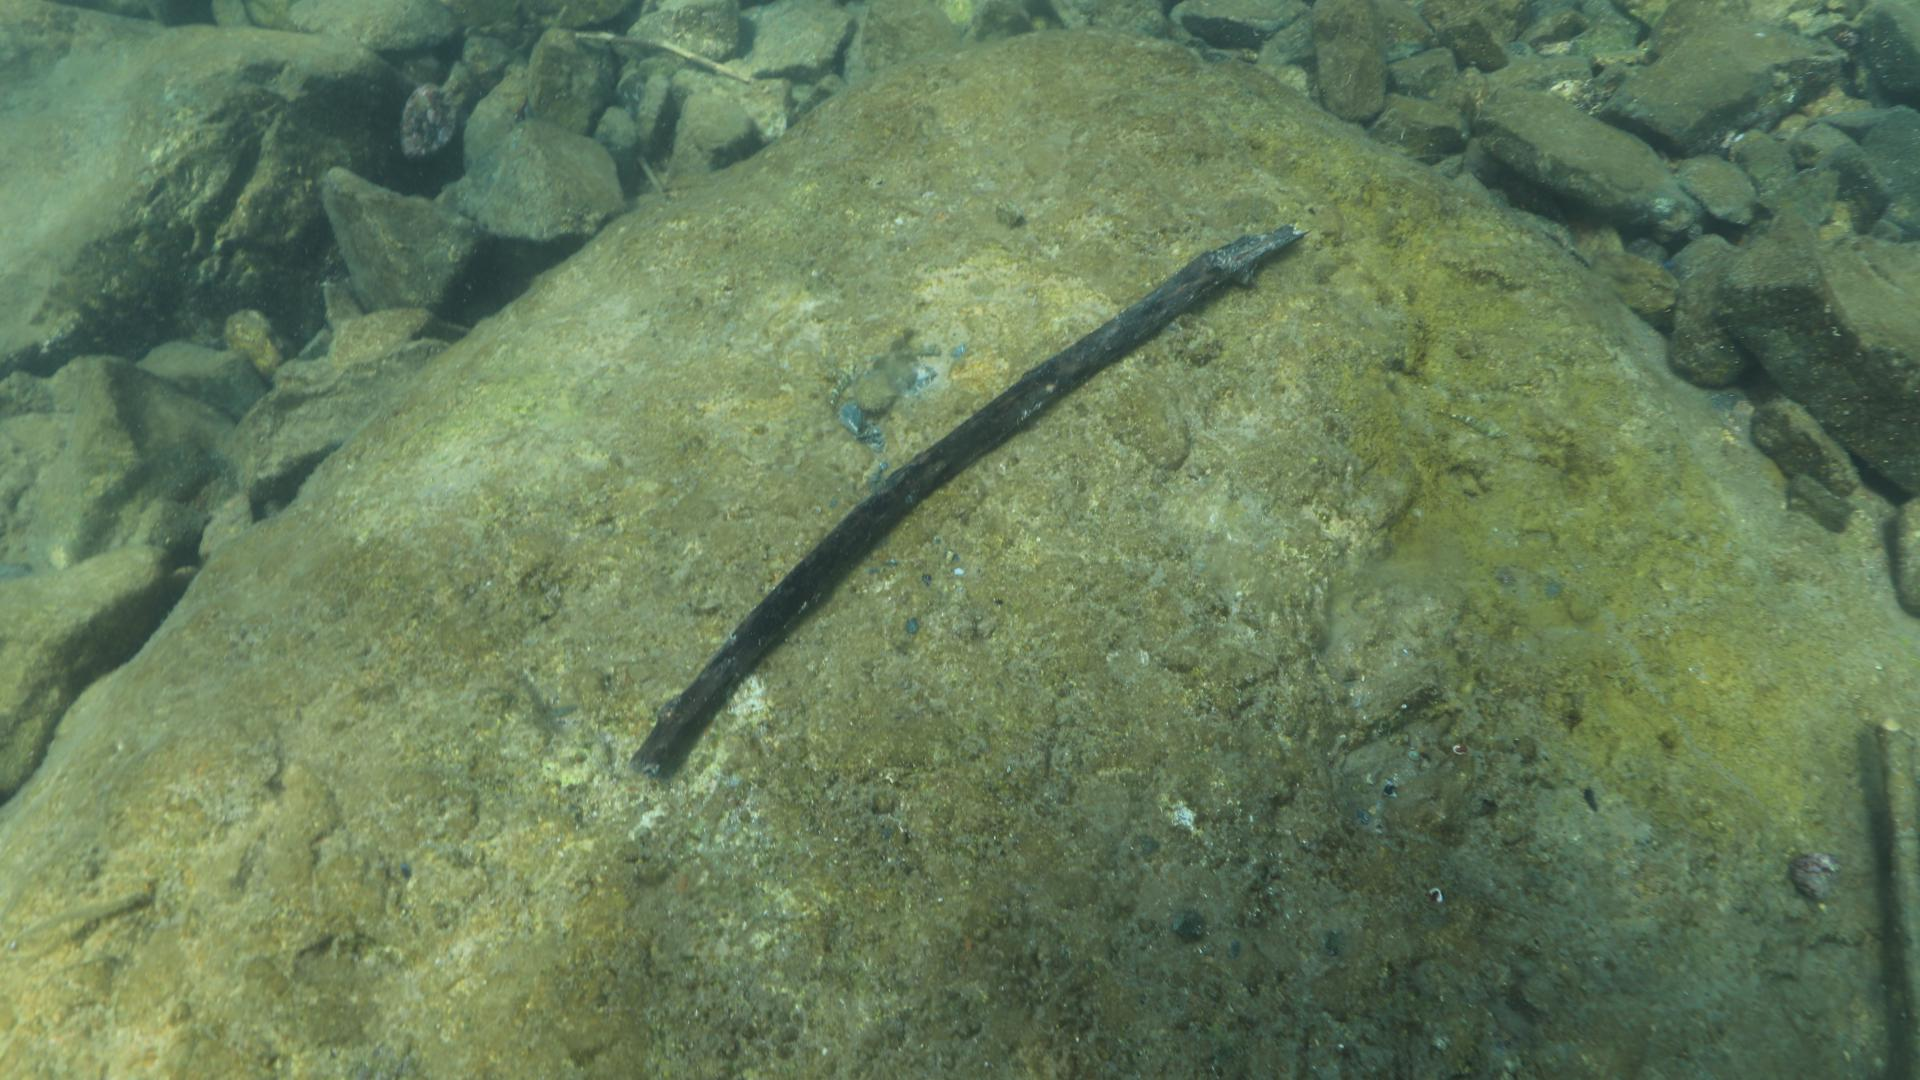wood: (625, 215, 1313, 775), (1873, 713, 1920, 1080)
